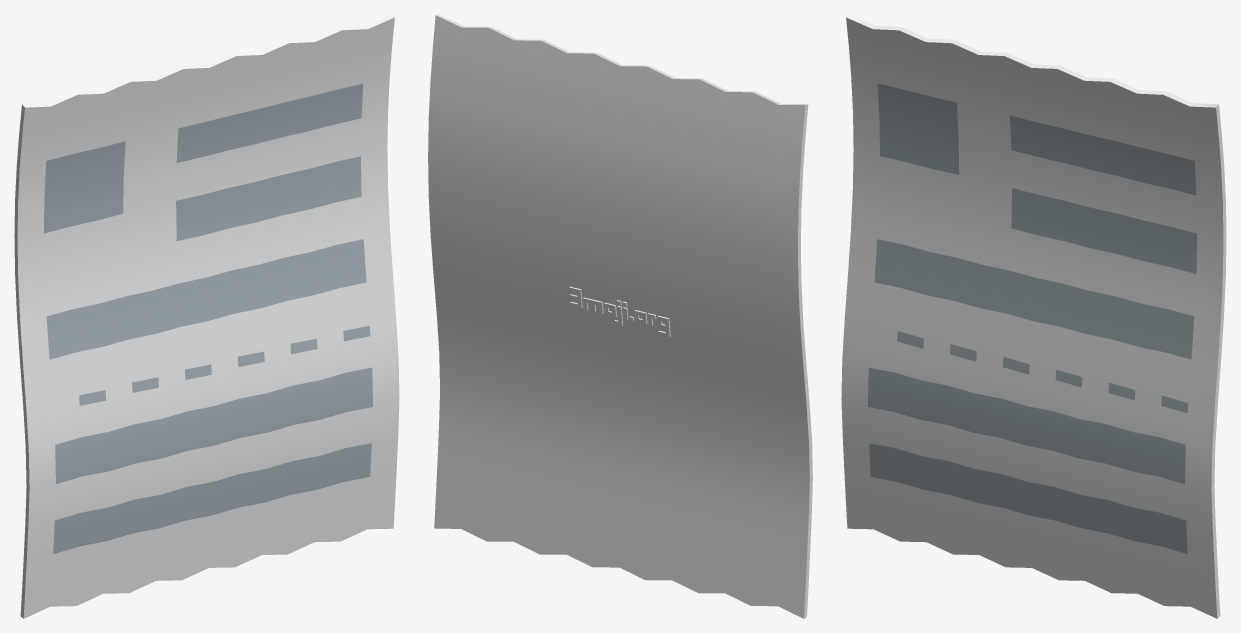
The model's file is receipt.fbx.
3 renders of one model, left to right at view 1: azimuth 30°, elevation 25°; view 2: azimuth 150°, elevation 25°; view 3: azimuth 330°, elevation 25°, orthographic.
Parts seen in each view (by area): view 1: Cube.961; view 2: Cube.961; view 3: Cube.961.
Boxes of the visible parts, x1,y1,x2,y2 form: Cube.961: (14, 14, 399, 618); Cube.961: (428, 14, 812, 618); Cube.961: (841, 14, 1226, 618).
Bounding box in the file's own units: 177 × 234 × 12.6.
1 material, 1 textured.
